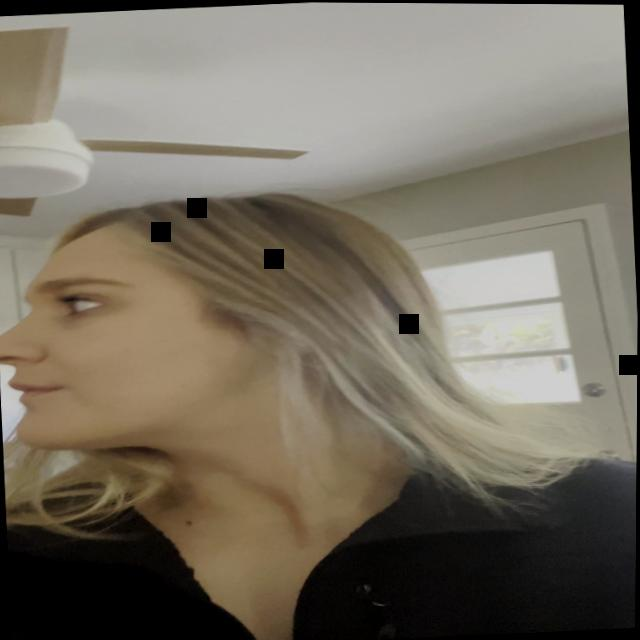NO-Mask: (0, 214, 214, 455)
